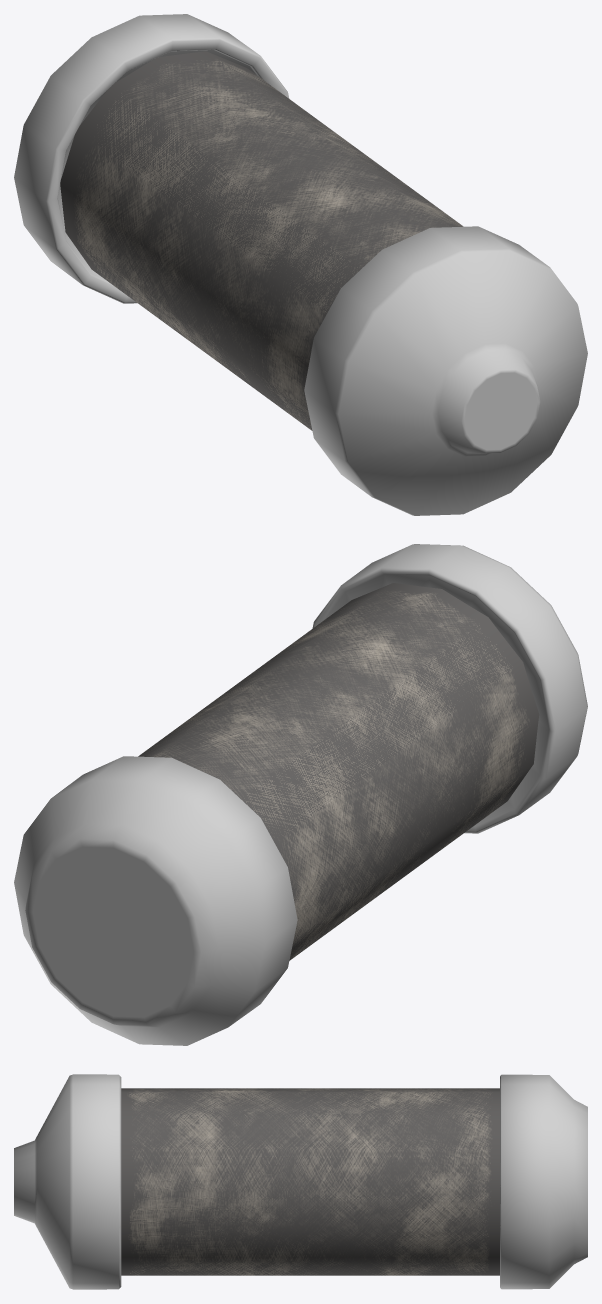
Rendered from LE_Fuse.fbx.
3 renders of one model, top to bottom at view 1: azimuth 30°, elevation 25°; view 2: azimuth 150°, elevation 25°; view 3: azimuth 270°, elevation 25°, orthographic. The views are drawn at different scales.
Visible parts, largest first — view 1: Cylinder.005; view 2: Cylinder.005; view 3: Cylinder.005.
Part boxes in pixels (x1,y1,x2,y2): Cylinder.005: [14, 14, 587, 515]; Cylinder.005: [14, 544, 587, 1045]; Cylinder.005: [14, 1074, 587, 1289].
Size of the model in its own units: 26.23 by 26.23 by 69.83.
